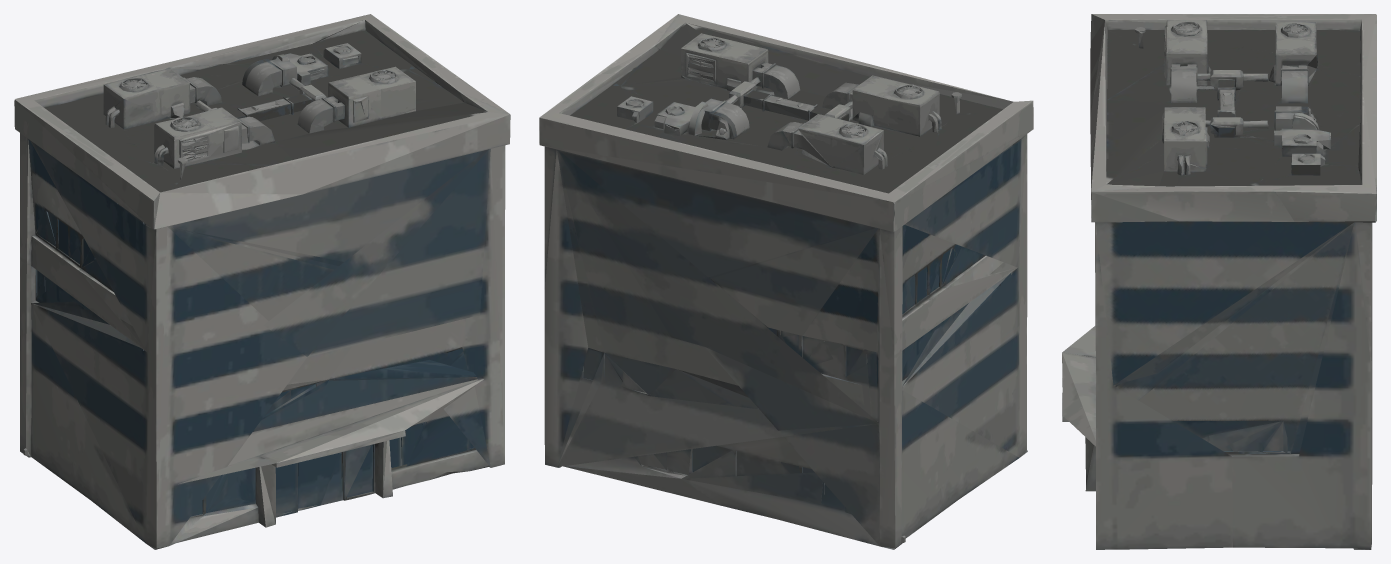
Rendered from dea.glb.
The picture shows the model from 3 angles, left to right: view 1: azimuth 30°, elevation 25°; view 2: azimuth 150°, elevation 25°; view 3: azimuth 270°, elevation 25°; orthographic projection. The views are drawn at different scales.
Parts seen in each view (by area): view 1: placed; view 2: placed; view 3: placed.
Part boxes in pixels (<box>): placed: <box>14,14,510,549</box>; placed: <box>539,14,1033,549</box>; placed: <box>1062,14,1376,549</box>.
Size of the model in its own units: 26 by 26.15 by 19.34.
1 material, 1 textured.
